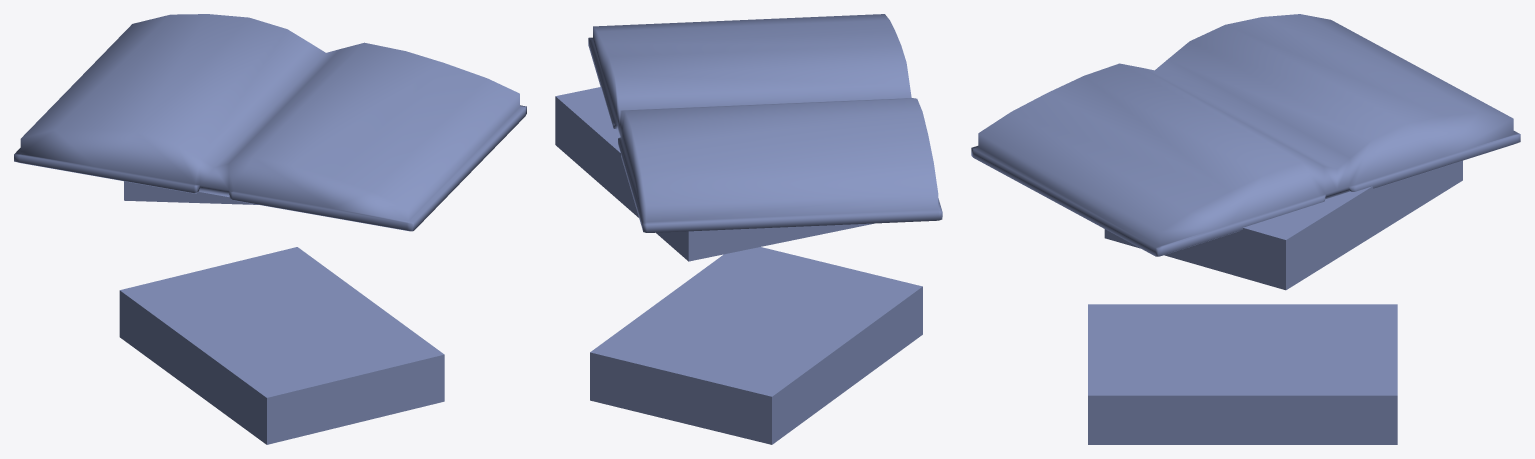
File: Book_Pile_02A_Lod0.fbx
3 views of the same model, side by side, from view 1: azimuth 30°, elevation 25°; view 2: azimuth 150°, elevation 25°; view 3: azimuth 270°, elevation 25° (orthographic). The views are drawn at different scales.
Parts seen in each view (by area): view 1: Book_Pile_02A_Lod0; view 2: Book_Pile_02A_Lod0; view 3: Book_Pile_02A_Lod0.
Boxes of the visible parts, <box> form: Book_Pile_02A_Lod0: <box>14,14,526,444</box>; Book_Pile_02A_Lod0: <box>555,14,942,444</box>; Book_Pile_02A_Lod0: <box>971,14,1520,444</box>.
Bounding box in the file's own units: 42.82 × 27.06 × 45.13.
